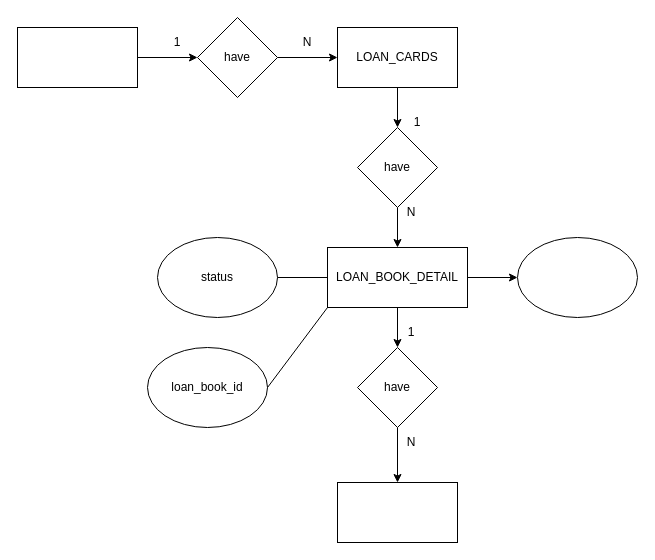
Some shapes in this 655 by 560 pixel diagram are drawn without their labels. The centre of each missing label's shape, as x and y in pixels:
bookId: the point at 577,277
BOOKS: the point at 397,512
STUDENTS: the point at 77,57
